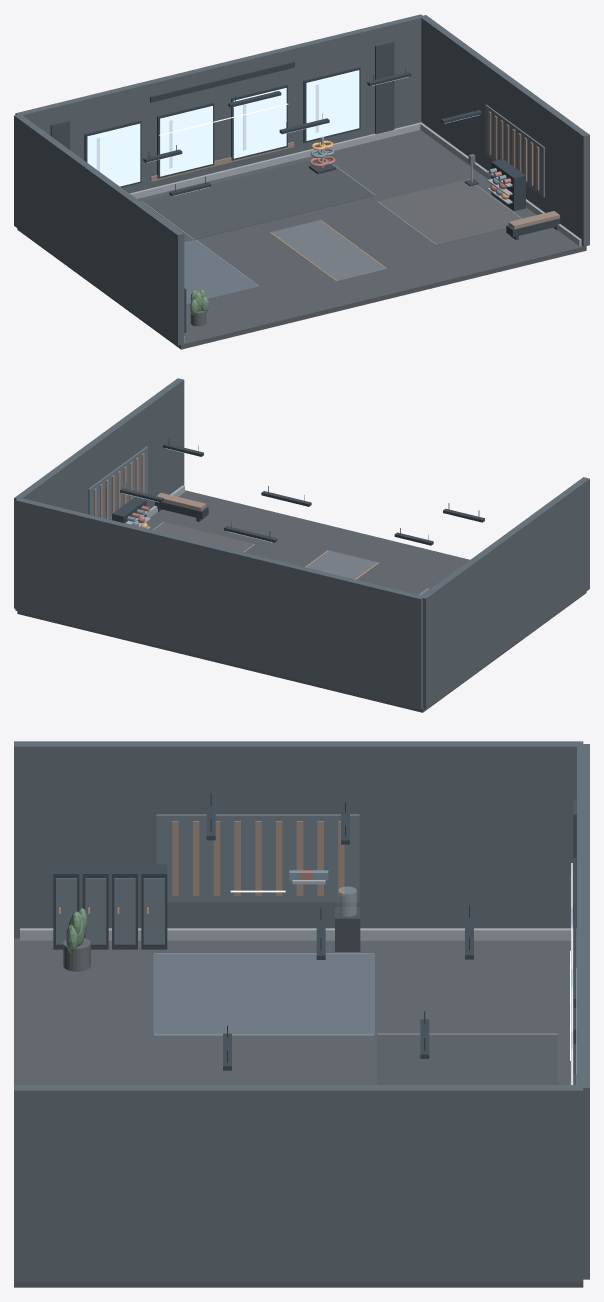
File: gym-environment.glb
3 renders of one model, top to bottom at view 1: azimuth 30°, elevation 25°; view 2: azimuth 150°, elevation 25°; view 3: azimuth 270°, elevation 25°, orthographic. The views are drawn at different scales.
Visible parts, largest first — view 1: ARCH_Floor_Base, ARCH_Back_Wall, ARCH_Left_Wall, ARCH_Right_Wall, ZONE_Strength_Floor, ZONE_Functional_Floor, ZONE_Central_Aisle, MIRROR_Panel_3, MIRROR_Panel_1, MIRROR_Panel_2, MIRROR_Panel_0, ZONE_Cardio_Floor (+12 smaller); view 2: ARCH_Back_Wall, ARCH_Left_Wall, ARCH_Floor_Base, ARCH_Right_Wall, ARCH_Right_Acoustic_Base, ZONE_Central_Aisle, ZONE_Functional_Floor, DECOR_Functional_Rack, DECOR_Entry_Bench_Frame; view 3: ARCH_Right_Wall, ARCH_Left_Wall, ARCH_Floor_Base, ZONE_Cardio_Floor, ARCH_Left_Acoustic_Base, ZONE_Strength_Floor, ARCH_Back_Wall, ARCH_Left_Baseboard, DECOR_Locker_Door_0, DECOR_Locker_Door_1, DECOR_Locker_Door_2, DECOR_Hydration_Cabinet (+6 smaller).
Part boxes in pixels (x1,y1,x2,y2): ARCH_Floor_Base: (17, 130, 586, 349); ARCH_Back_Wall: (15, 14, 423, 193); ARCH_Left_Wall: (14, 114, 184, 345); ARCH_Right_Wall: (421, 15, 589, 246); ZONE_Strength_Floor: (142, 160, 374, 239); ZONE_Functional_Floor: (378, 179, 521, 245); ZONE_Central_Aisle: (270, 220, 386, 281); MIRROR_Panel_3: (306, 70, 359, 140); MIRROR_Panel_1: (160, 106, 212, 176); MIRROR_Panel_2: (233, 88, 286, 158); MIRROR_Panel_0: (87, 123, 140, 186); ZONE_Cardio_Floor: (184, 240, 259, 304); ARCH_Back_Wall: (15, 498, 424, 709); ARCH_Left_Wall: (422, 477, 589, 708); ARCH_Floor_Base: (17, 490, 586, 712); ARCH_Right_Wall: (14, 378, 184, 608); ARCH_Right_Acoustic_Base: (88, 446, 147, 519); ZONE_Central_Aisle: (306, 550, 378, 579); ZONE_Functional_Floor: (153, 522, 253, 551); DECOR_Functional_Rack: (112, 497, 146, 523); DECOR_Entry_Bench_Frame: (155, 501, 208, 518); ARCH_Right_Wall: (14, 1085, 583, 1282); ARCH_Left_Wall: (14, 741, 583, 938); ARCH_Floor_Base: (14, 938, 583, 1287); ZONE_Cardio_Floor: (153, 953, 374, 1035); ARCH_Left_Acoustic_Base: (156, 814, 359, 902); ZONE_Strength_Floor: (377, 1034, 557, 1084); ARCH_Back_Wall: (577, 744, 589, 1279); ARCH_Left_Baseboard: (20, 928, 572, 940); DECOR_Locker_Door_0: (143, 878, 164, 944); DECOR_Locker_Door_1: (114, 878, 135, 944); DECOR_Locker_Door_2: (85, 878, 106, 944); DECOR_Hydration_Cabinet: (335, 907, 360, 951).
Bounding box in the file's own units: 20.32 × 5.54 × 14.16.
